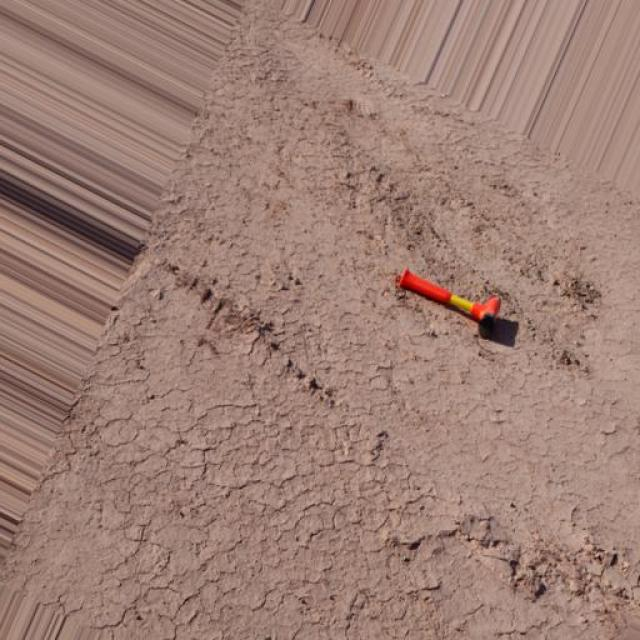mallet: (394, 265, 501, 326)
